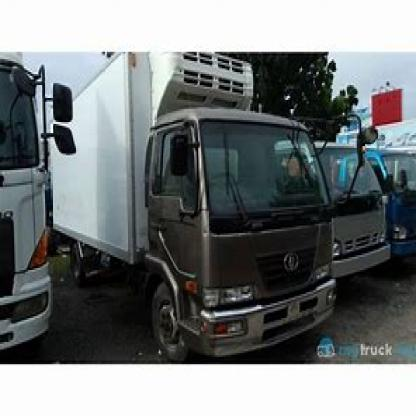dump_truck: (42, 50, 337, 366)
